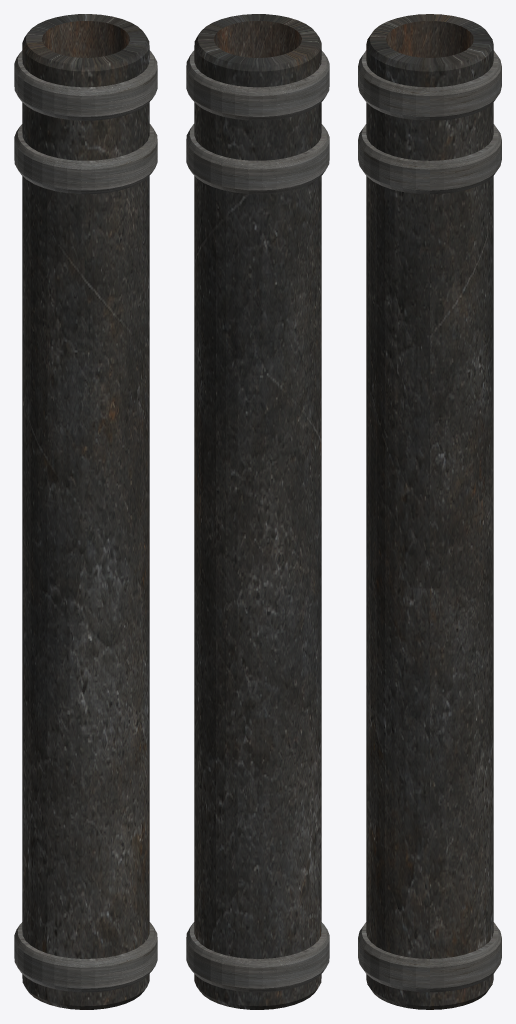
The model's file is barrel.obj.
3 views of the same model, side by side, from view 1: azimuth 30°, elevation 25°; view 2: azimuth 150°, elevation 25°; view 3: azimuth 270°, elevation 25° (orthographic).
Parts seen in each view (by area): view 1: tube, rear_ring, end_ring, muzzle_ring; view 2: tube, rear_ring, end_ring, muzzle_ring; view 3: tube, rear_ring, muzzle_ring, end_ring.
Part boxes in pixels (bbox=[...]): tube: bbox=[22, 14, 149, 1009]; rear_ring: bbox=[14, 124, 157, 194]; end_ring: bbox=[14, 50, 157, 120]; muzzle_ring: bbox=[14, 922, 157, 992]; tube: bbox=[194, 14, 321, 1009]; rear_ring: bbox=[186, 124, 329, 194]; end_ring: bbox=[186, 50, 329, 120]; muzzle_ring: bbox=[186, 922, 329, 992]; tube: bbox=[366, 14, 493, 1009]; rear_ring: bbox=[358, 124, 501, 194]; muzzle_ring: bbox=[358, 922, 501, 992]; end_ring: bbox=[358, 50, 501, 120].
Size of the model in its own units: 14.05 by 102 by 14.05.
Materials: 1 (1 with a texture image).
